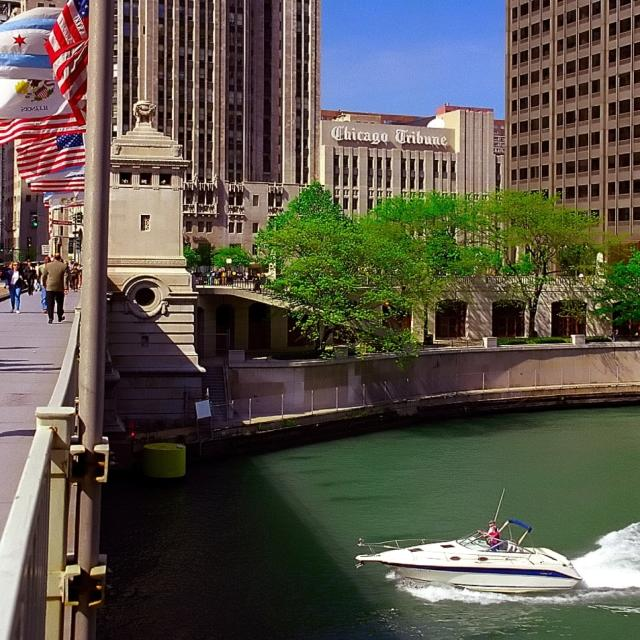Boat: (353, 522, 603, 601)
